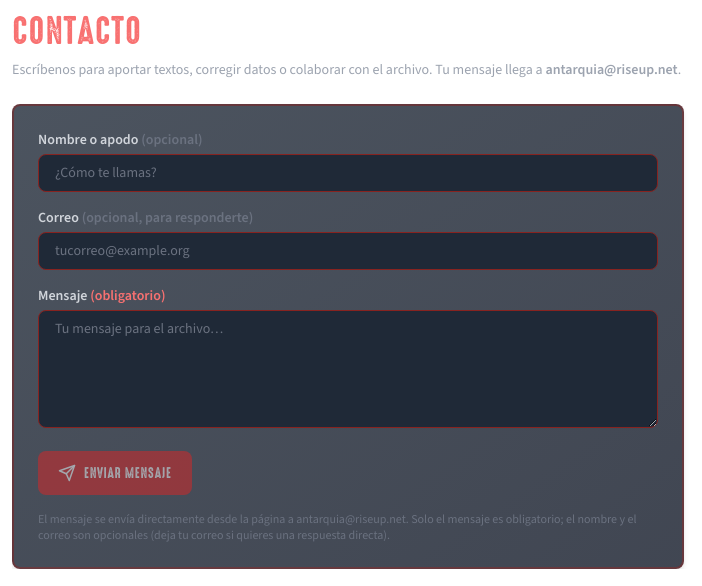
Scenario: ContactView › incluye apodo y correo en el envío cuando se rellenan
In the field labelled "Nombre o apodo (opcional)": coordinates (348, 173) [38,154,658,192], type "Pantera"
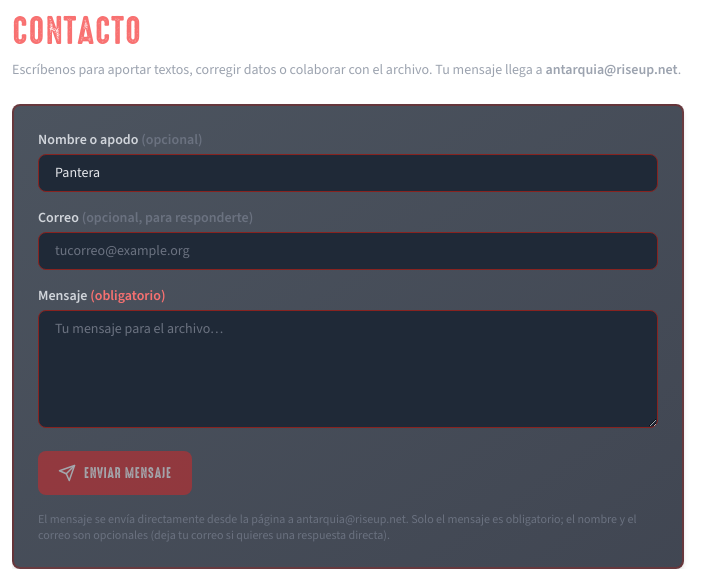
In the field labelled "Correo (opcional, para responderte)": coordinates (348, 251) [38,232,658,270], type "pantera@riseup.net"
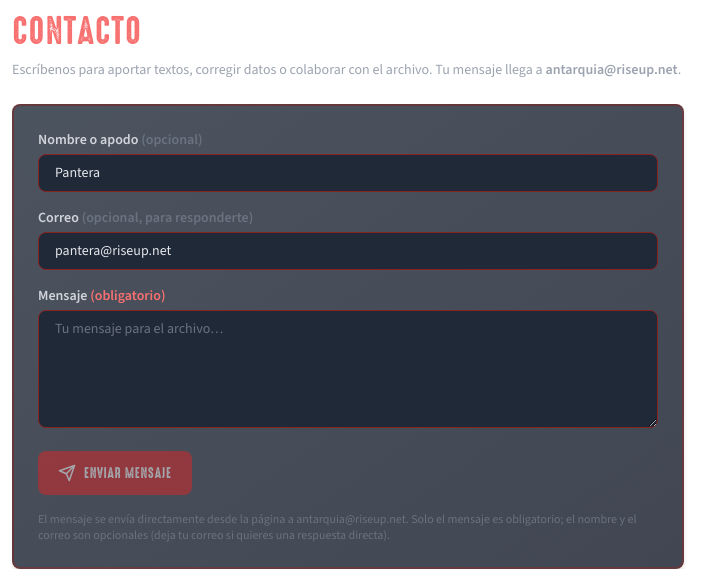
In the text box labelled "Mensaje (obligatorio)": coordinates (348, 369) [38,310,658,428], type "Hola."
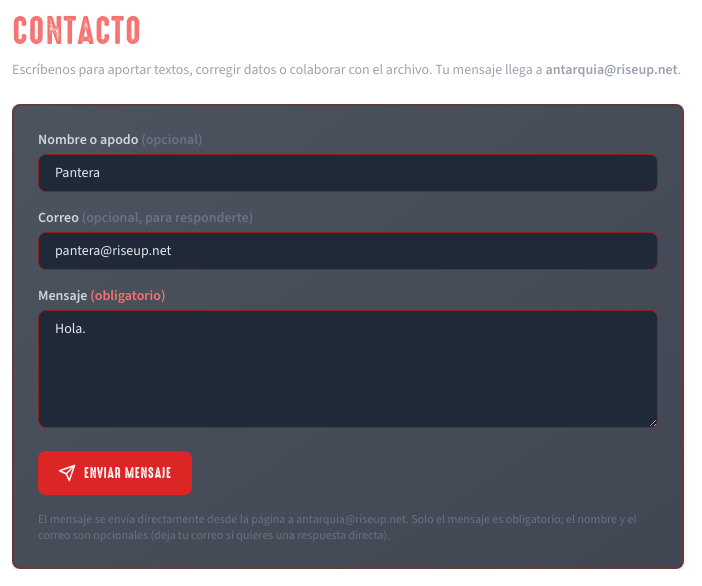
Click the button "Enviar mensaje": coordinates (115, 473) [38,451,192,495]
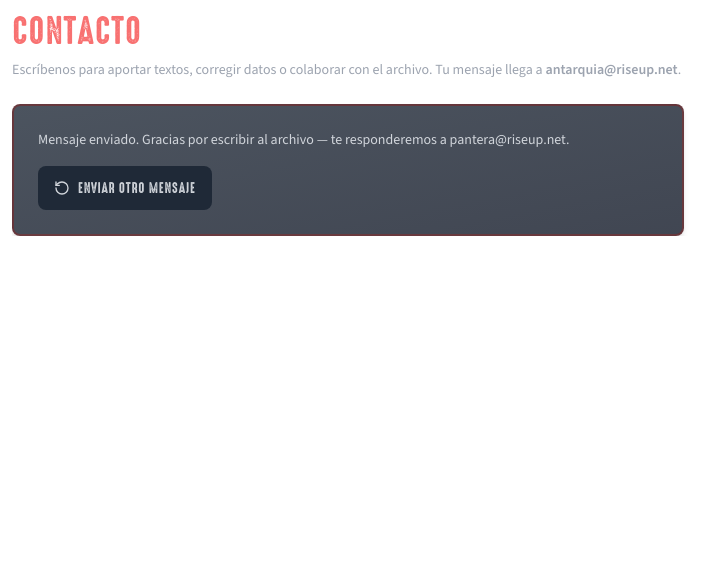
Expected: the text "te responderemos a pantera@riseup.net" is shown, [314,130,566,149]
